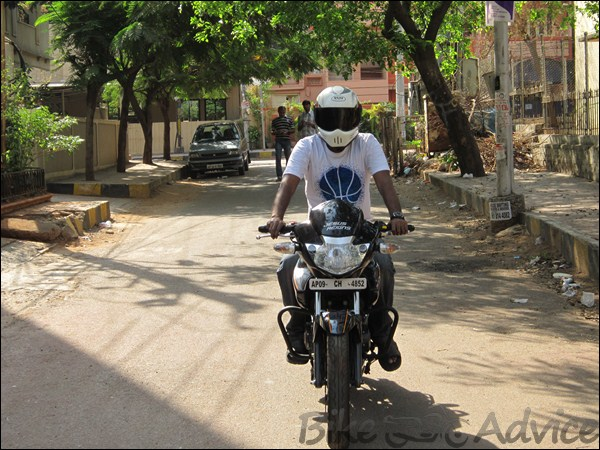helmet: (314, 87, 370, 148)
